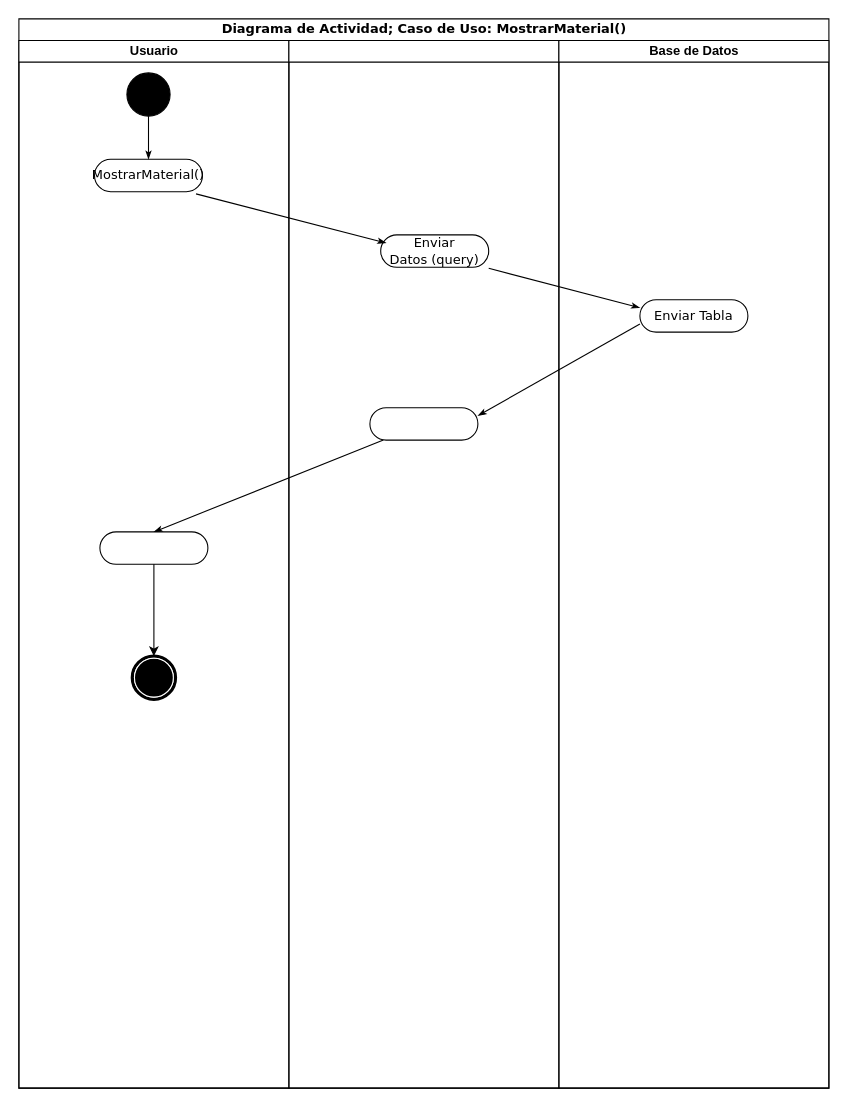
Image size: 848x1107. Some labels were removed from this diagram. Each missing label, with the box of its shape:
Aplicación: (288, 39, 559, 1088)
CargarAgregar MaterialForm(): (369, 407, 478, 440)
Mostrar Lista de Materiales: (99, 531, 208, 564)
